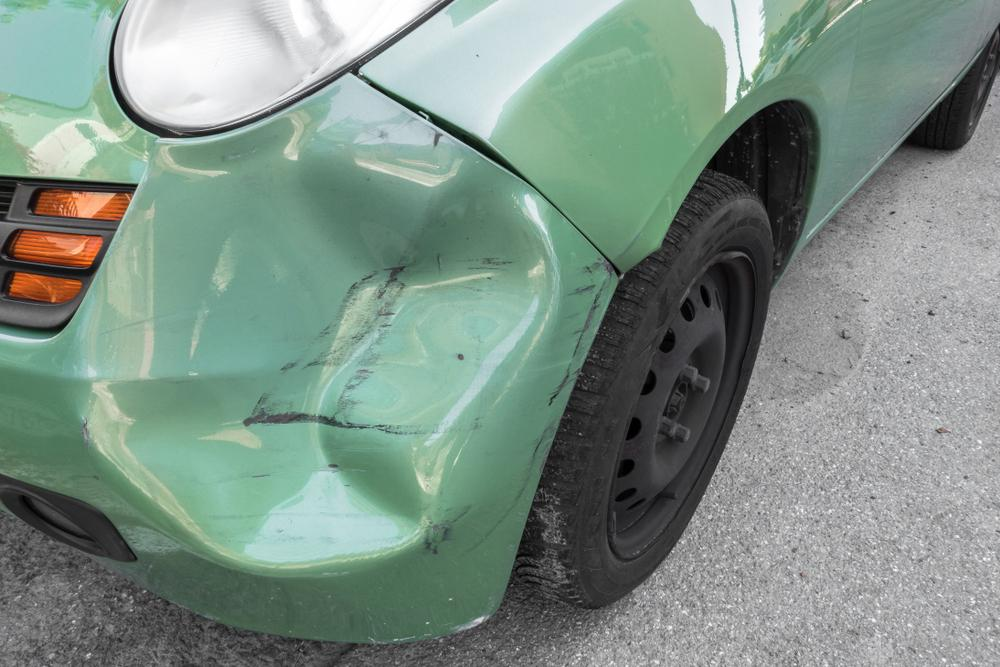dent: (94, 118, 550, 565)
scratch: (426, 258, 619, 560)
